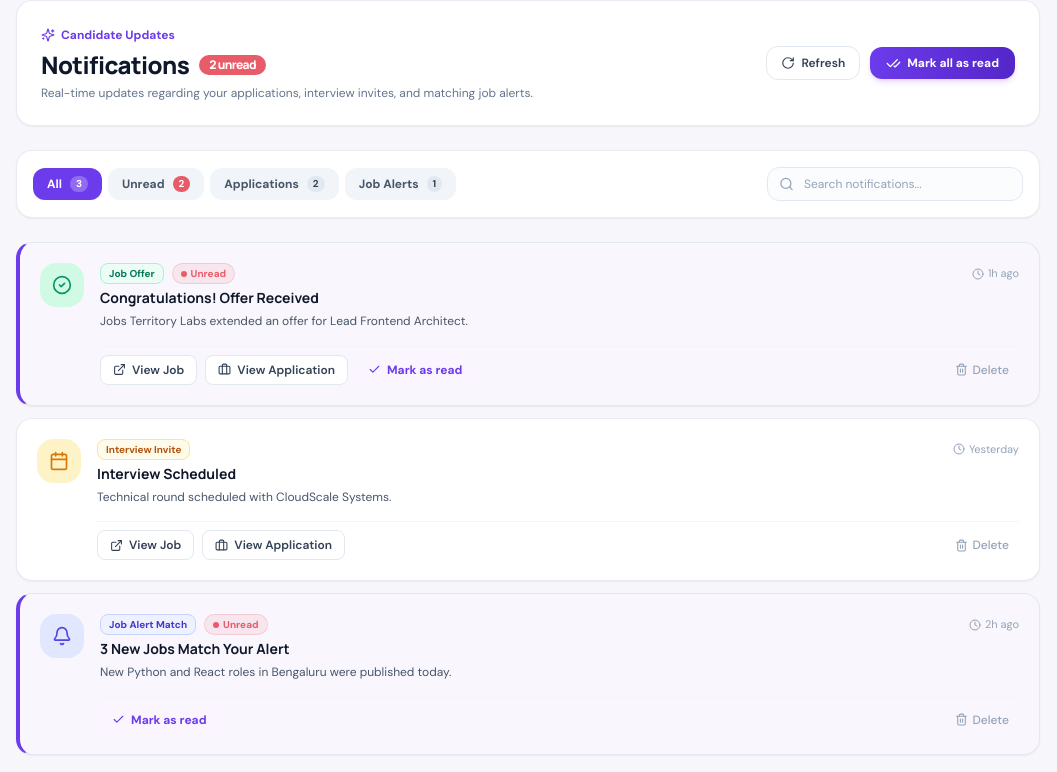
it: NotificationsPage › filters notifications when clicking tabs
Check: the heading "Congratulations! Offer Received" is shown, box x1=100 y1=288 x2=319 y2=307
# Click Unread tab
Click the button "Unread 2" at [156, 184], box x1=108 y1=168 x2=204 y2=200
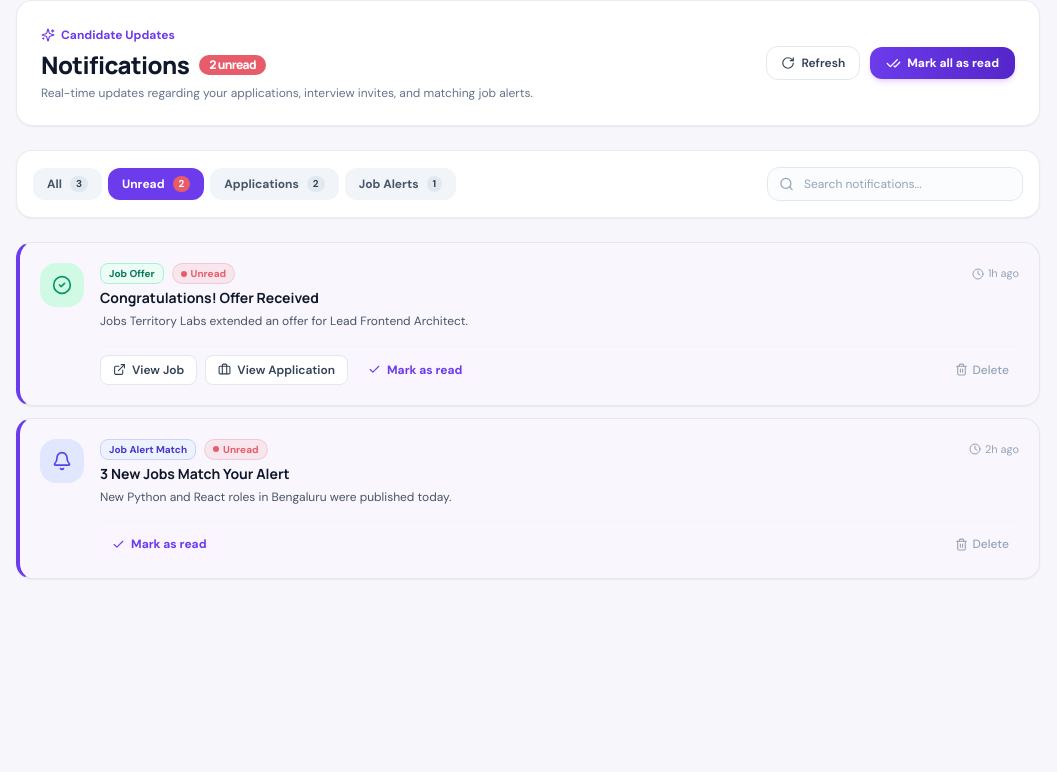
Check: the heading "Congratulations! Offer Received" is shown, box x1=100 y1=288 x2=319 y2=307
Check: the heading "Interview Scheduled" is gone
# Click Job Alerts tab
Click the button "Job Alerts 1" at [400, 184], box x1=345 y1=168 x2=456 y2=200
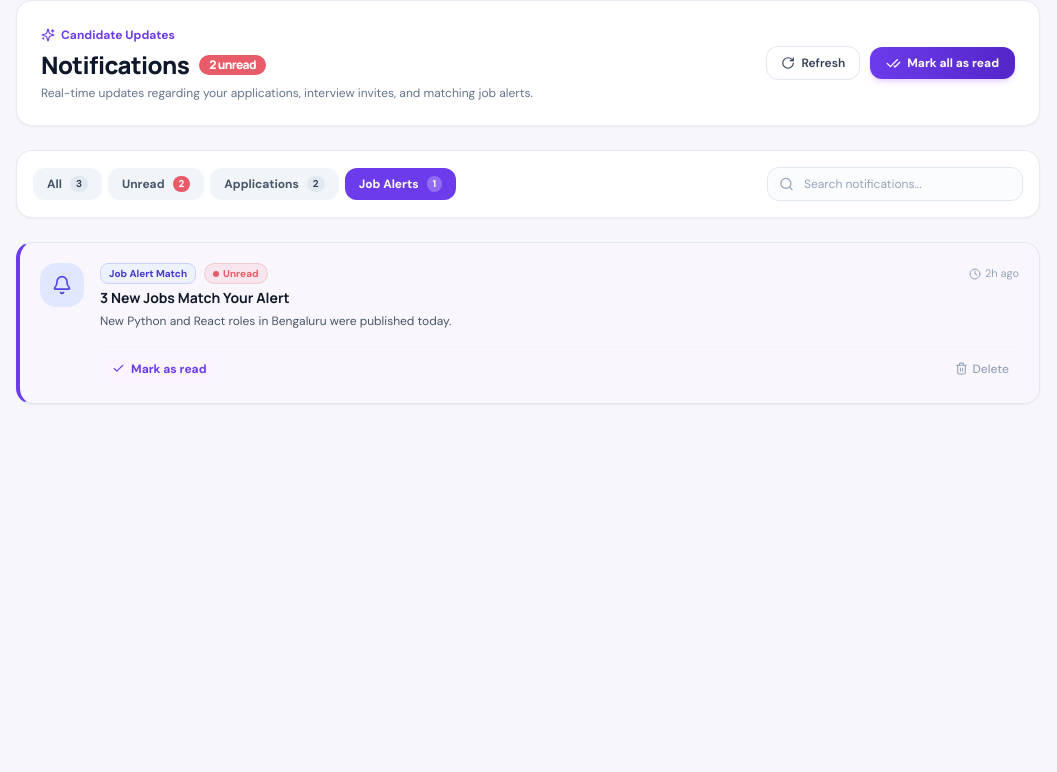
Check: the heading "3 New Jobs Match Your Alert" is shown, box x1=100 y1=288 x2=290 y2=307
Check: the heading "Congratulations! Offer Received" is gone
